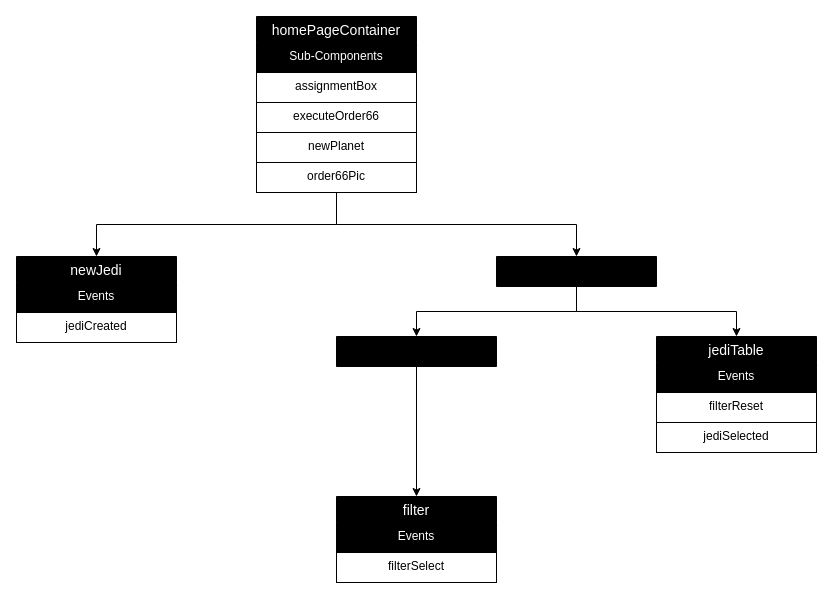
This 833x599 diagram has some shape labels left out. The centre of each missing label's shape, as x and y in pixels:
"jediDataOverview" goes at [576,271].
"jediFilters" goes at [416,351].
